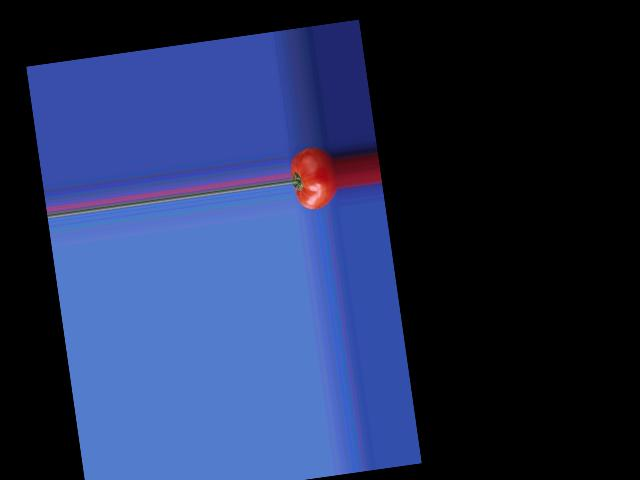tomato: (287, 144, 340, 211)
